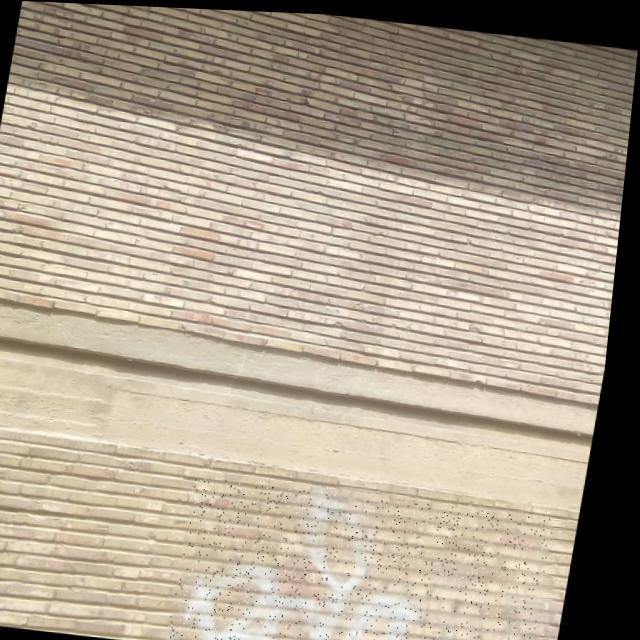-: (179, 474, 567, 640)
